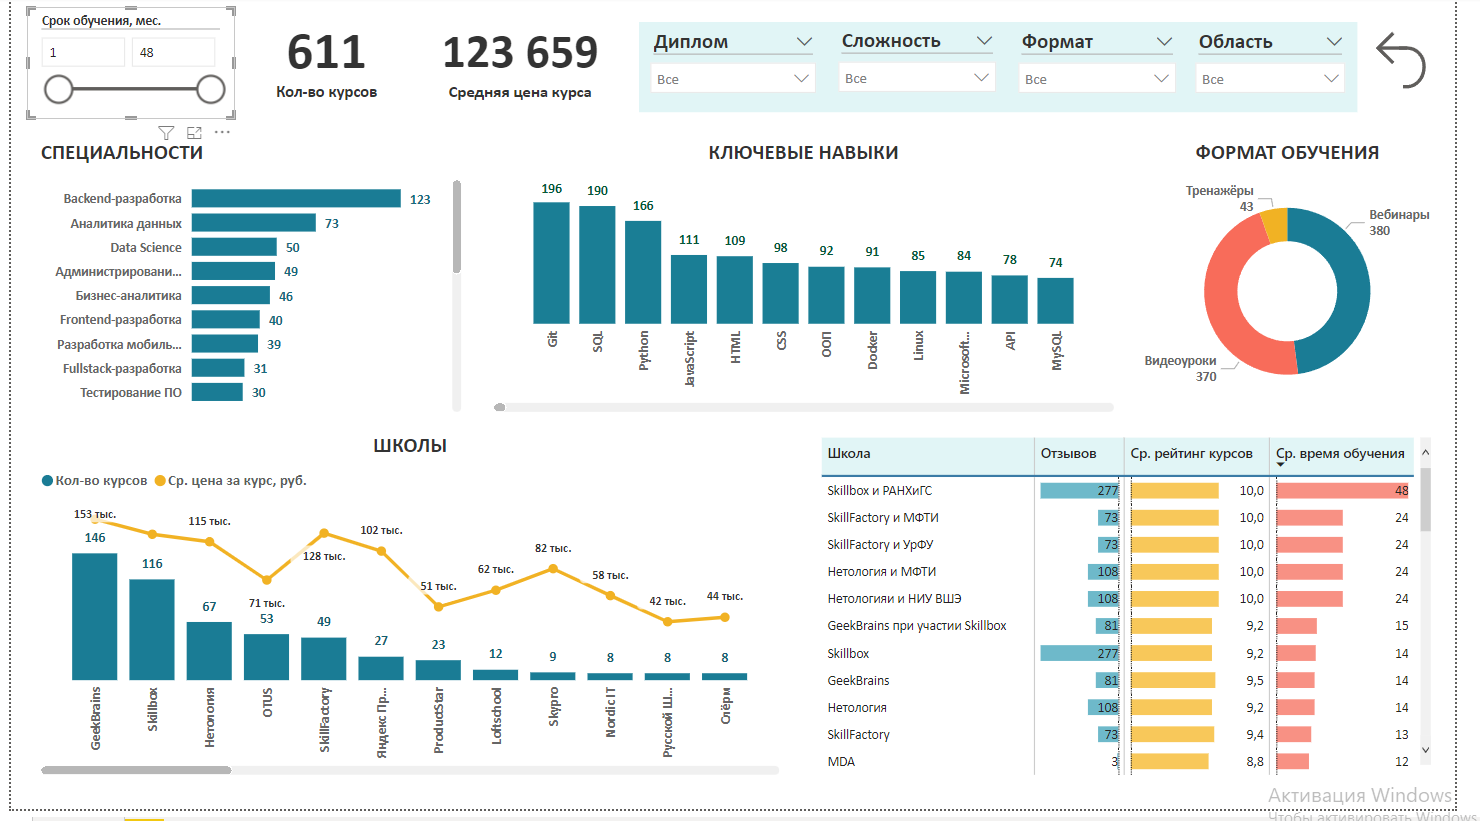

The dashboard page shown, as its layout file describes it:
{"tool":"powerbi","page":{"name":"Курсы","canvas":[1280,720],"ordinal":0},"visuals":[{"type":"shape","box":[556.8,22.2,636.7,79.8],"z":0},{"type":"slicer","fields":{"Values":["Курсы checkroi.ru.Выдаваемый документ"]},"box":[1033.9,22.2,159.6,79.8],"z":1000},{"type":"slicer","fields":{"Values":["Курсы checkroi.ru.Уровень сложности"]},"box":[710.2,22.2,159.6,79.8],"z":2000},{"type":"slicer","fields":{"Values":["Курсы checkroi.ru.Формат обучения"]},"box":[869.9,22.2,159.6,79.8],"z":3000},{"type":"card","fields":{"Values":["Курсы checkroi.ru.Course_count"]},"box":[212.8,23.9,133.9,92.2],"z":4000},{"type":"lineStackedColumnComboChart","title":"ШКОЛЫ","fields":{"Category":["Курсы checkroi.ru.Школа"],"Y":["Курсы checkroi.ru.Course_count"],"Y2":["Курсы checkroi.ru.Price"]},"box":[21.3,385.7,673.9,309.5],"z":5000},{"type":"barChart","title":"СПЕЦИАЛЬНОСТИ","fields":{"Category":["Курсы checkroi.ru.Категория"],"Y":["Курсы checkroi.ru.Course_count"]},"box":[21.3,125.9,383.1,246.5],"z":6000},{"type":"card","fields":{"Values":["Курсы checkroi.ru.Price"]},"box":[360.9,8,180.9,92.2],"z":7000},{"type":"lineStackedColumnComboChart","title":"КЛЮЧЕВЫЕ НАВЫКИ","fields":{"Category":["Курсы checkroi.ru.Ключевые навыки"],"Y":["Курсы checkroi.ru.Course_count"],"Y2":["Avg(Курсы checkroi.ru.Рейтинг курса)"]},"box":[720.9,385.7,544.4,309.5],"z":8000},{"type":"actionButton","box":[1200.6,23.9,79.8,63.8],"z":9000},{"type":"slicer","fields":{"Values":["Курсы checkroi.ru.Продолжительность"]},"box":[14.2,8.9,184.4,99.3],"z":10000},{"type":"slicer","fields":{"Values":["Курсы checkroi.ru.Область"]},"box":[556.8,23.9,153.4,79.8],"z":11000},{"type":"textbox","box":[204.8,5.3,172,48.8],"z":12000},{"type":"lineStackedColumnComboChart","title":"СРОК ОБУЧЕНИЯ","fields":{"Category":["Курсы checkroi.ru.Продолжительность"],"Y2":["Avg(Курсы checkroi.ru.Рейтинг курса)"],"Y":["Курсы checkroi.ru.Price"]},"box":[777.6,125.9,487.7,246.5],"z":13000},{"type":"barChart","title":"ТЕМАТИКА","fields":{"Category":["Курсы checkroi.ru.Школа"],"Y":["Курсы checkroi.ru.Analyt","Курсы checkroi.ru.Razrab"]},"box":[415,125.9,352,246.5],"z":14000}]}

Visuals, with their boxes on the page's 1280x720 design canvas (x1, y1, x2, y2). These are canvas units, not pixel positions in the 1480x821 screenshot, which may show the page scaled, cropped or inside an application window:
shape: 557,22,1194,102
slicer - Курсы checkroi.ru.Выдаваемый документ: 1034,22,1194,102
slicer - Курсы checkroi.ru.Уровень сложности: 710,22,870,102
slicer - Курсы checkroi.ru.Формат обучения: 870,22,1030,102
card - Курсы checkroi.ru.Course_count: 213,24,347,116
"ШКОЛЫ" lineStackedColumnComboChart: 21,386,695,695
"СПЕЦИАЛЬНОСТИ" barChart: 21,126,404,372
card - Курсы checkroi.ru.Price: 361,8,542,100
"КЛЮЧЕВЫЕ НАВЫКИ" lineStackedColumnComboChart: 721,386,1265,695
actionButton: 1201,24,1280,88
slicer - Курсы checkroi.ru.Продолжительность: 14,9,199,108
slicer - Курсы checkroi.ru.Область: 557,24,710,104
textbox: 205,5,377,54
"СРОК ОБУЧЕНИЯ" lineStackedColumnComboChart: 778,126,1265,372
"ТЕМАТИКА" barChart: 415,126,767,372
